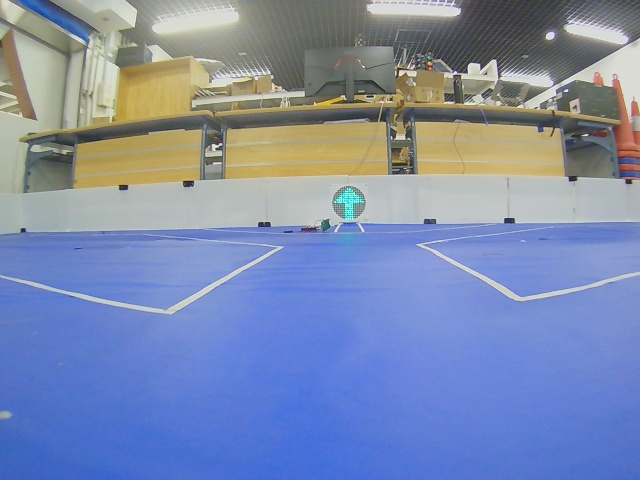straight_green: (332, 186, 366, 220)
